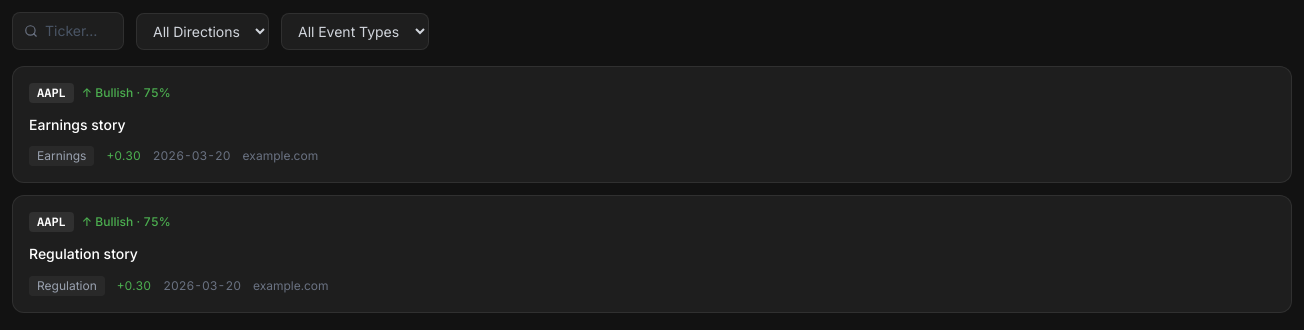
NewsFeed › filters to earnings event type only
Select "Earnings" in the dropdown named "Event Type" at (355, 31), box [281,12,429,50]
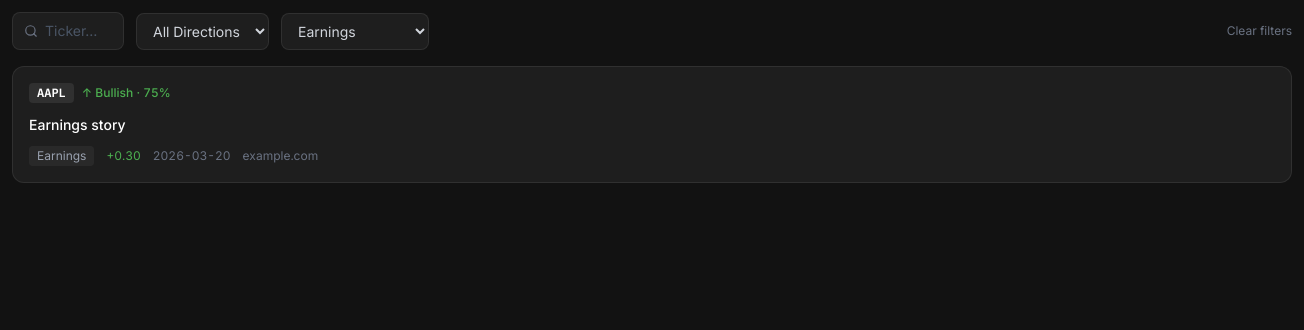
expect the link "Earnings story" is shown: met, box [29,116,126,133]
expect the link "Regulation story" is gone: met
